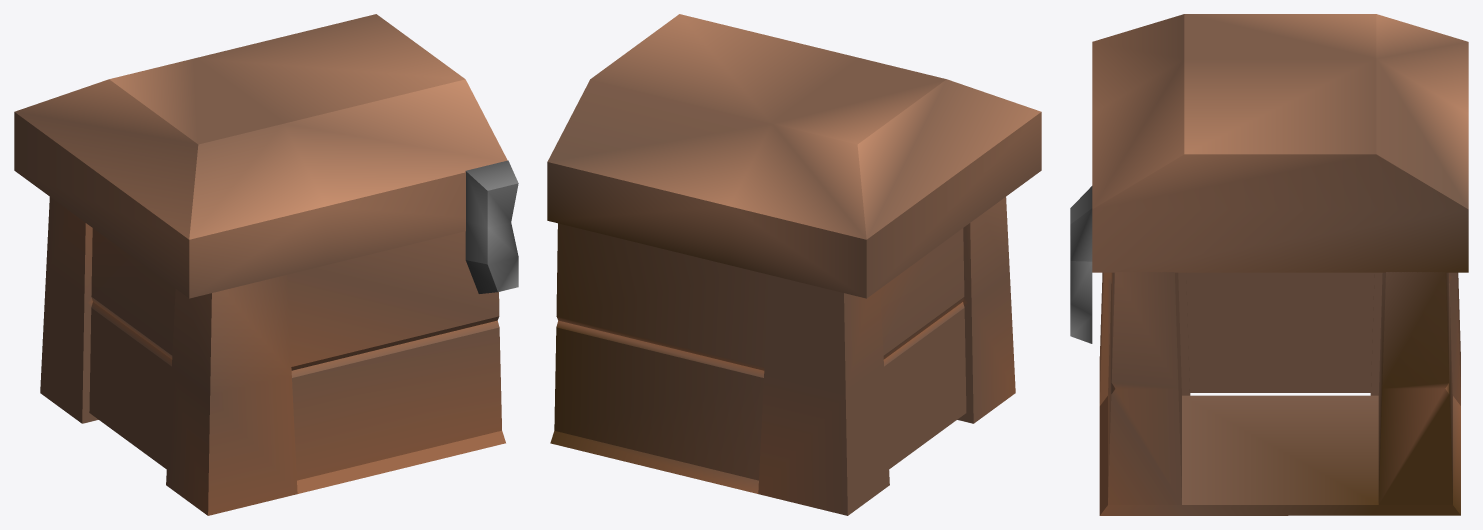
Rendered from ChestBaseRight.fbx.
The picture shows the model from 3 angles, left to right: view 1: azimuth 30°, elevation 25°; view 2: azimuth 150°, elevation 25°; view 3: azimuth 270°, elevation 25°; orthographic projection. The views are drawn at different scales.
Visible parts, largest first — view 1: Chest; view 2: Chest; view 3: Chest.
Boxes of the visible parts, x1,y1,x2,y2 form: Chest: [14, 14, 518, 515]; Chest: [547, 14, 1041, 515]; Chest: [1070, 14, 1468, 515].
Bounding box in the file's own units: 100 × 100 × 100.
